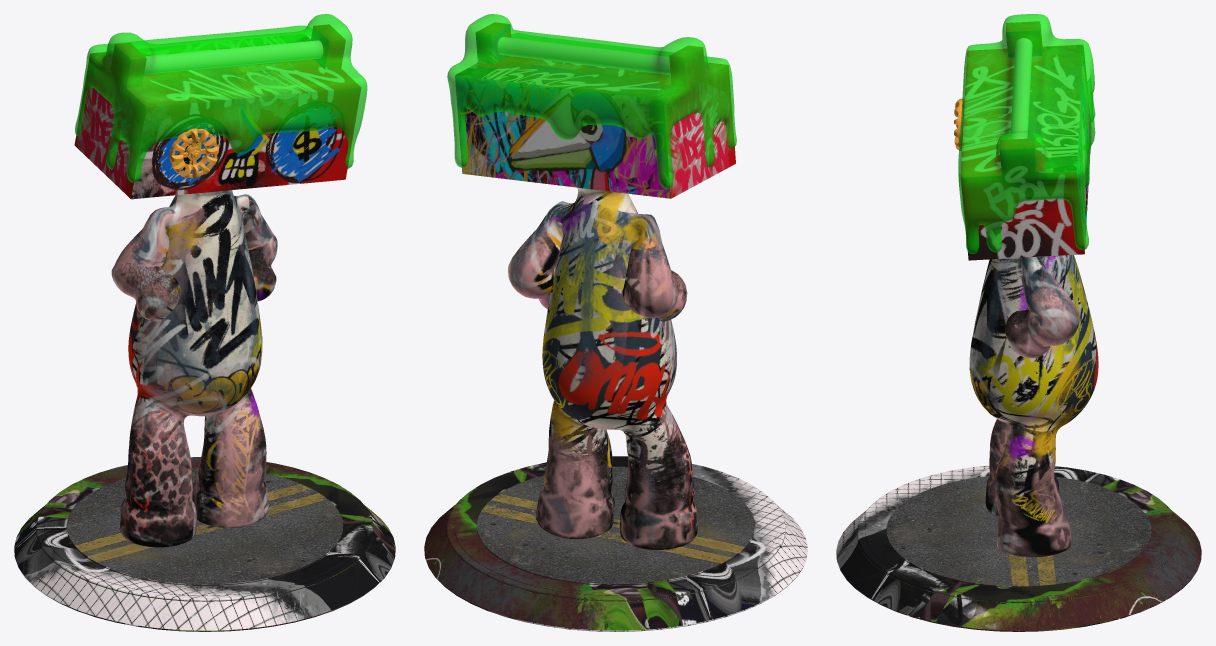
Rendered from 154_sanitized.glb.
3 renders of one model, left to right at view 1: azimuth 30°, elevation 25°; view 2: azimuth 150°, elevation 25°; view 3: azimuth 270°, elevation 25°, orthographic. The views are drawn at different scales.
Parts seen in each view (by area): view 1: BBody; view 2: BBody; view 3: BBody.
Part boxes in pixels (x1,y1,x2,y2): BBody: [14, 14, 395, 631]; BBody: [424, 14, 807, 631]; BBody: [836, 14, 1201, 631].
Bounding box in the file's own units: 1.45 × 2.21 × 1.45.
Materials: 6 (5 with a texture image).
